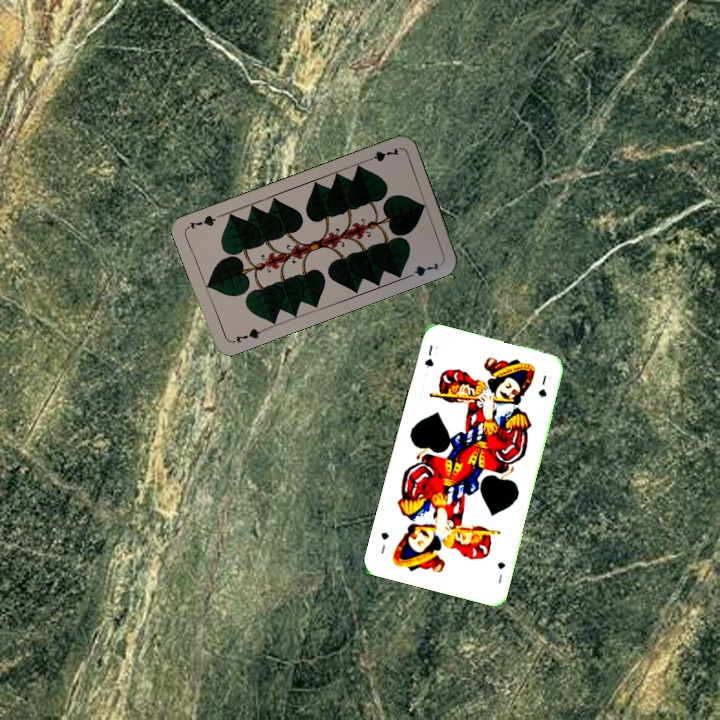G7: (227, 324, 267, 346), (361, 144, 401, 165)
GU: (420, 341, 436, 371), (493, 558, 508, 586)
